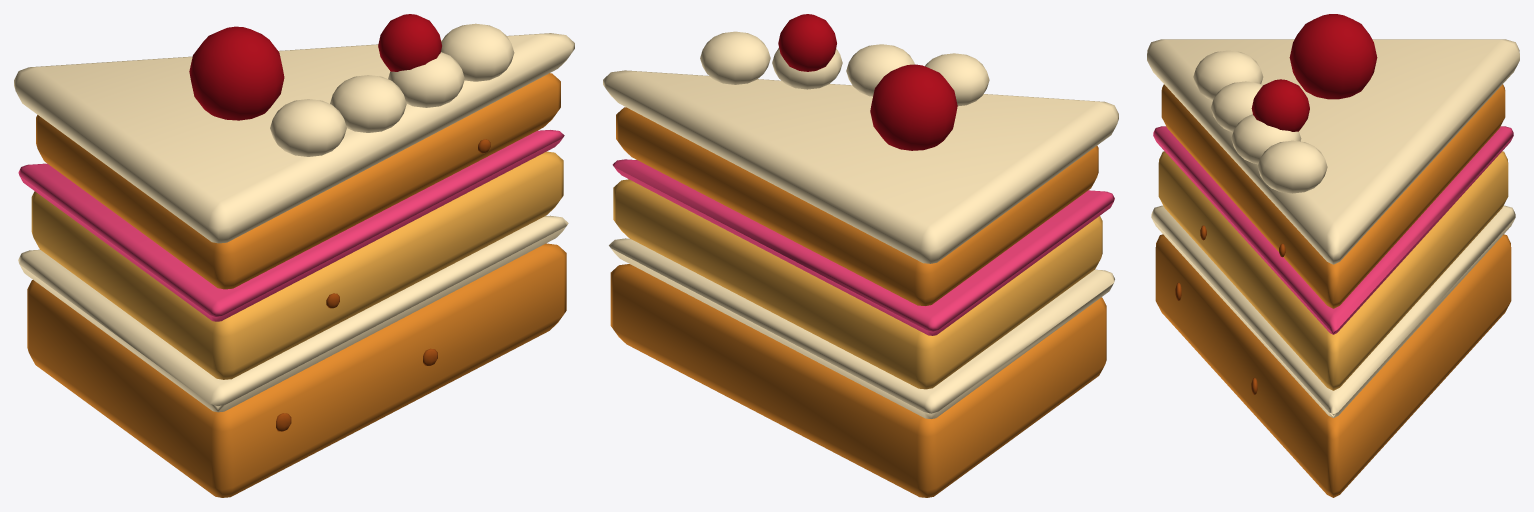
Rendered from cake_slice.glb.
3 views of the same model, side by side, from view 1: azimuth 30°, elevation 25°; view 2: azimuth 150°, elevation 25°; view 3: azimuth 270°, elevation 25° (orthographic). The views are drawn at different scales.
Parts seen in each view (by area): view 1: cake_slice; view 2: cake_slice; view 3: cake_slice.
Part boxes in pixels (x1,y1,x2,y2): cake_slice: (14,14,574,497); cake_slice: (603,14,1118,497); cake_slice: (1147,14,1519,497).
Bounding box in the file's own units: 1 × 0.7797 × 0.7657.
Materials: 1 (1 with a texture image).
